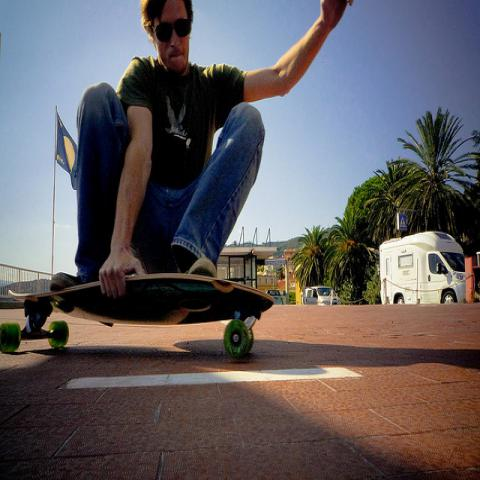car: (305, 287, 342, 305), (266, 289, 283, 305)
truck: (378, 236, 474, 307)
